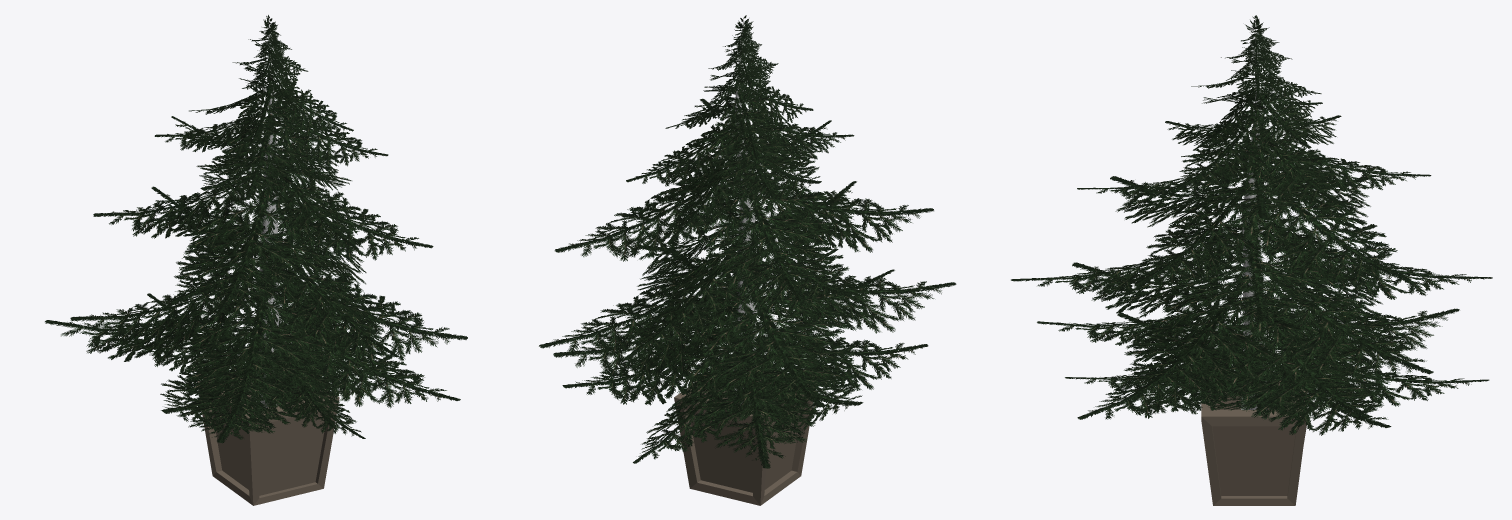
Rendered from christmastree.fbx.
3 views of the same model, side by side, from view 1: azimuth 30°, elevation 25°; view 2: azimuth 150°, elevation 25°; view 3: azimuth 270°, elevation 25° (orthographic).
Parts seen in each view (by area): view 1: leaf.435, pot.006, stam.007; view 2: leaf.435, pot.006, stam.007; view 3: leaf.435, pot.006, stam.007.
Boxes of the visible parts, left/top/right/bottom form: leaf.435: left=45, top=15, right=467, bottom=443; pot.006: left=197, top=375, right=339, bottom=505; stam.007: left=256, top=18, right=278, bottom=407; leaf.435: left=539, top=15, right=956, bottom=468; pot.006: left=674, top=378, right=814, bottom=505; stam.007: left=733, top=18, right=756, bottom=405; leaf.435: left=1011, top=15, right=1492, bottom=435; pot.006: left=1201, top=383, right=1307, bottom=505; stam.007: left=1241, top=19, right=1267, bottom=409.
Bounding box in the file's own units: 2.8 × 3.18 × 3.4.
